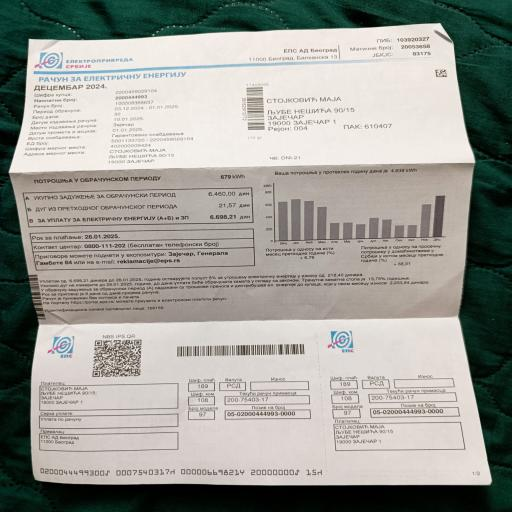racun_za_struju: (15, 170, 262, 243)
